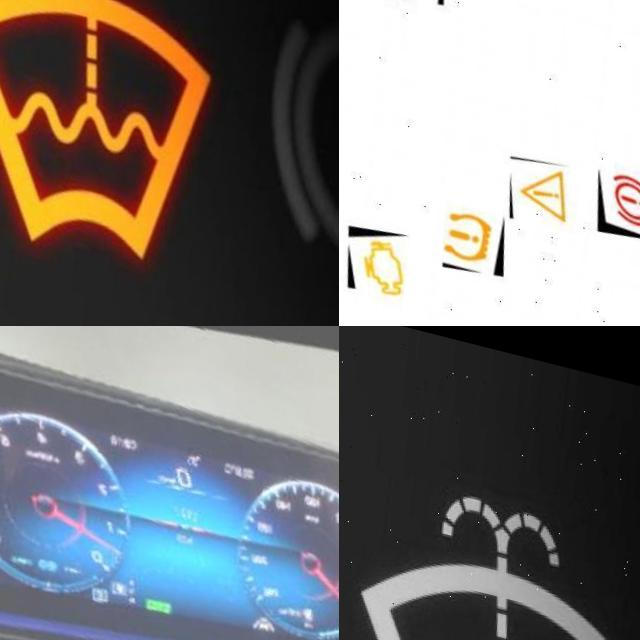Low fuel level: (303, 582, 320, 600)
Washer Fluid: (0, 0, 233, 257), (346, 463, 637, 640)
